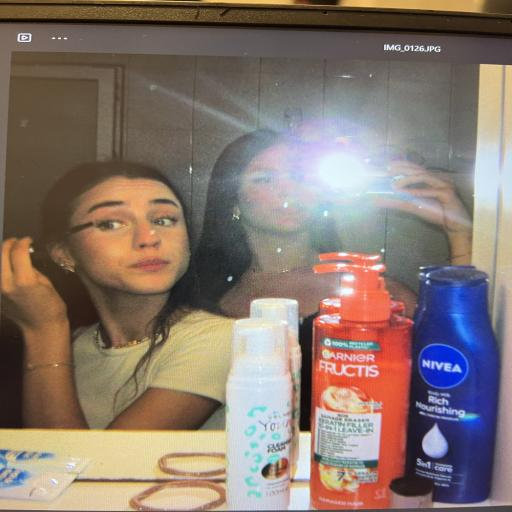masa: (59, 175, 190, 293)
